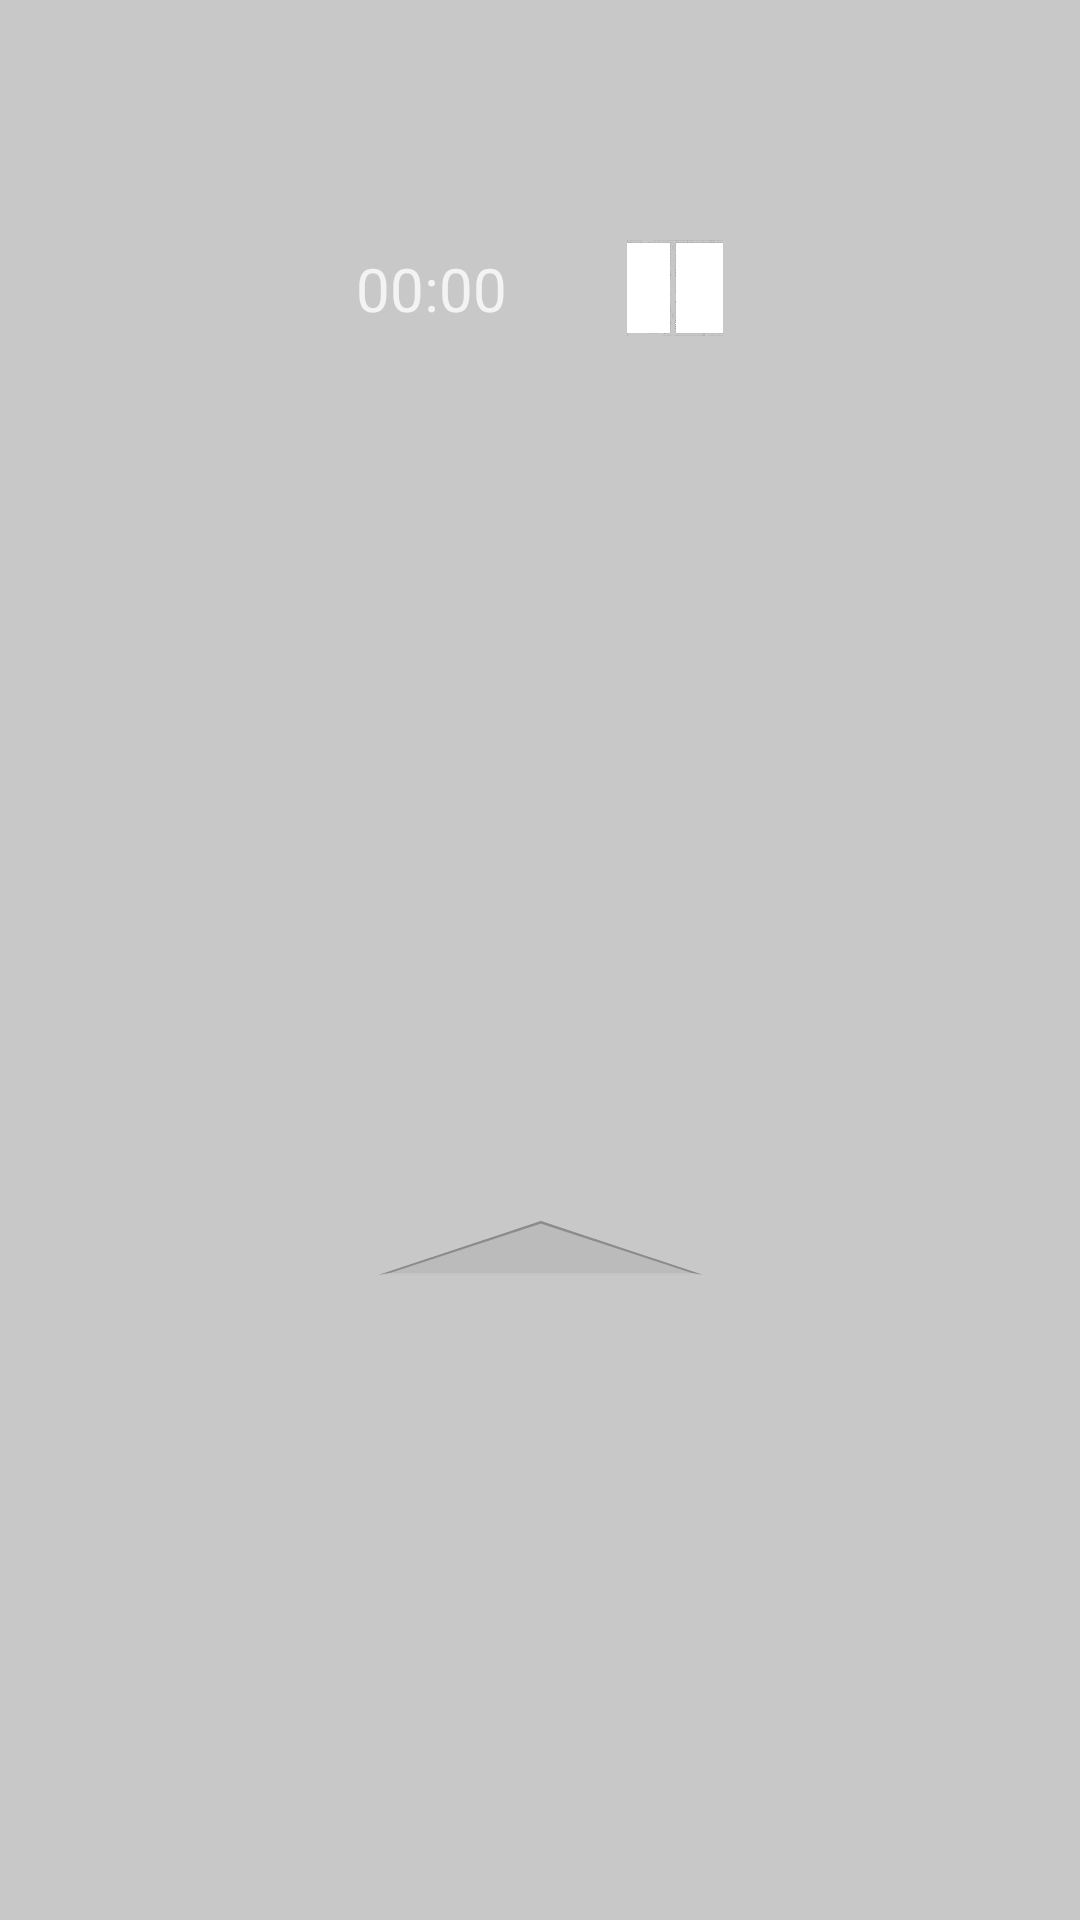

Where to tap for icons on this 1080 x 1920 app screen, as (x=x, y=y):
arrow up: (x=541, y=1248)
pause: (x=675, y=288)
